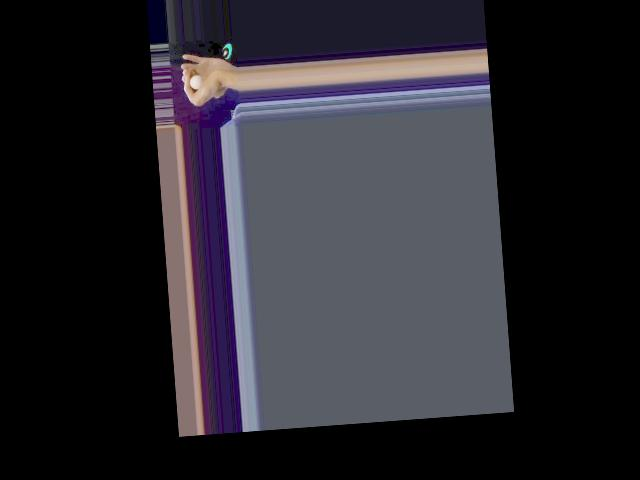egg: (189, 74, 201, 90)
